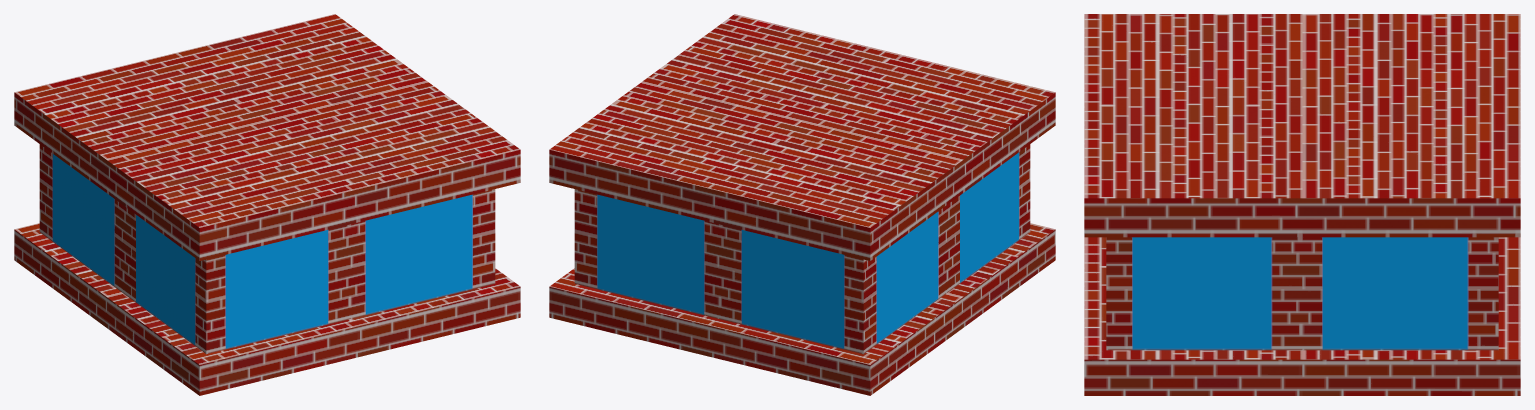
File: buildingMiddle.fbx
The picture shows the model from 3 angles, left to right: view 1: azimuth 30°, elevation 25°; view 2: azimuth 150°, elevation 25°; view 3: azimuth 270°, elevation 25°; orthographic projection. The views are drawn at different scales.
Parts seen in each view (by area): view 1: Middle; view 2: Middle; view 3: Middle.
Part boxes in pixels (bbox=[...]): Middle: bbox=[14, 14, 520, 395]; Middle: bbox=[549, 14, 1055, 395]; Middle: bbox=[1084, 14, 1520, 395].
Size of the model in its own units: 20 by 10 by 20.
2 materials, 2 textured.
